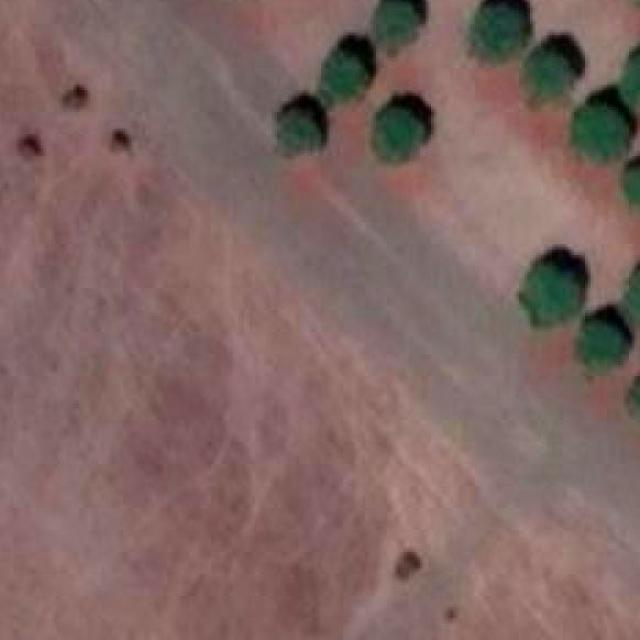Tree: (525, 264, 585, 324), (571, 101, 629, 162), (470, 4, 524, 68), (519, 46, 574, 101), (371, 104, 420, 163), (277, 107, 330, 156), (373, 0, 420, 52), (320, 52, 367, 101), (576, 319, 620, 368), (616, 50, 640, 109), (624, 260, 640, 326), (627, 164, 640, 208), (631, 374, 640, 421)
